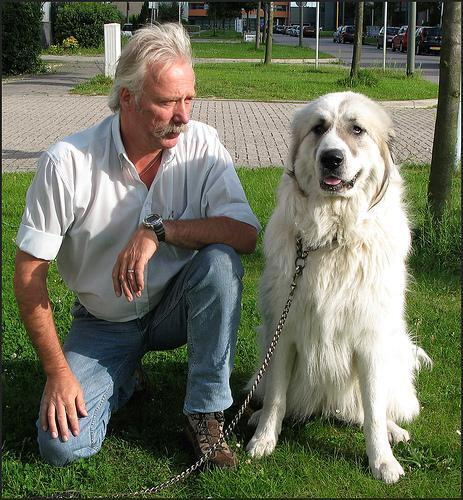Great_Pyrenees: (245, 88, 432, 485)
